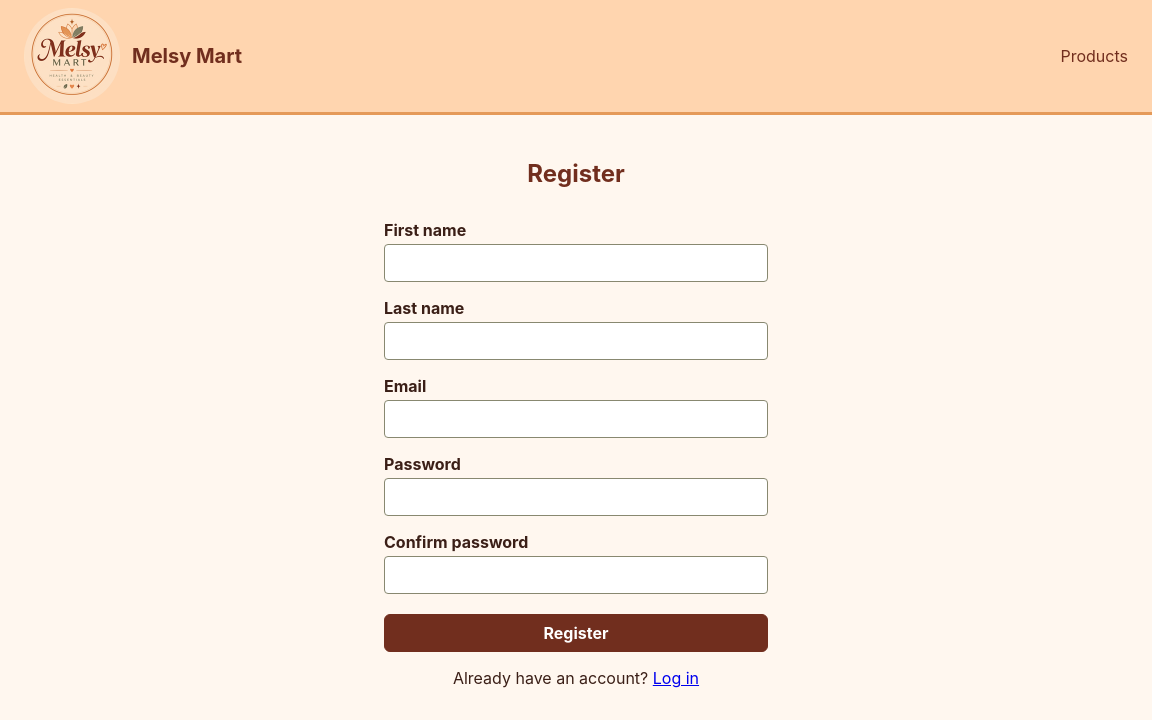
Test case: shows the API's error message and stays on the form
The image size is (1152, 720).
In the field labelled "First name": (576,263) [384,244,768,282], type "Ada"
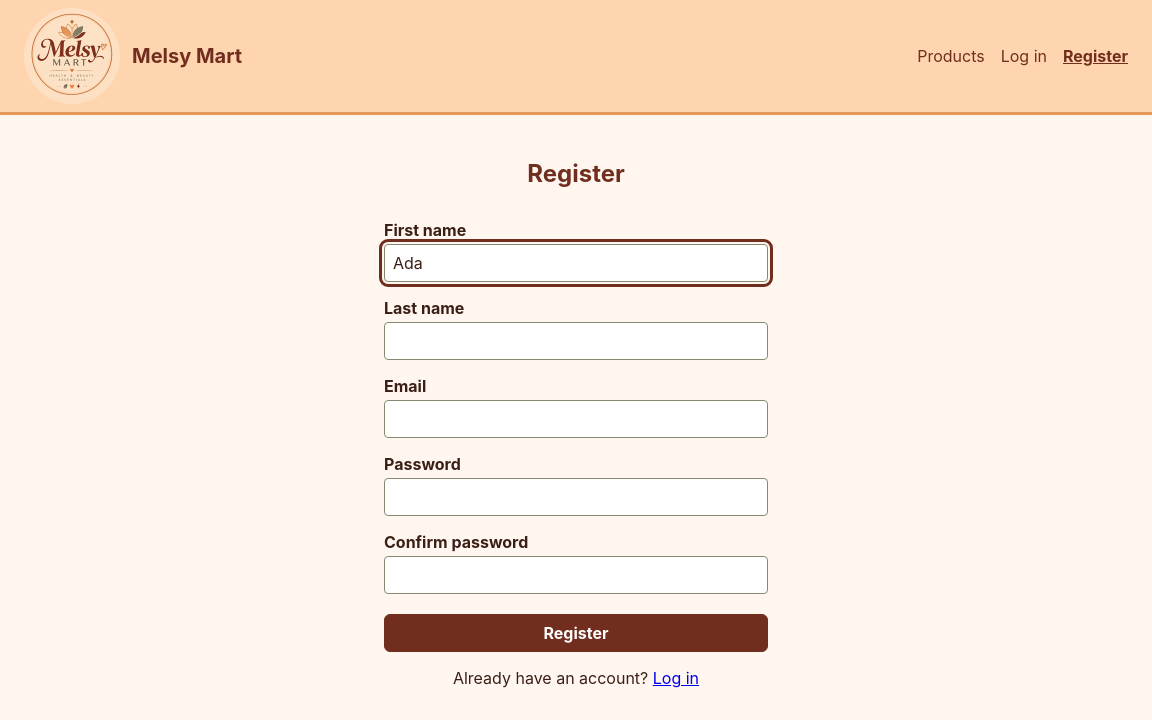
In the field labelled "Last name": (576,341) [384,322,768,360], type "Lovelace"
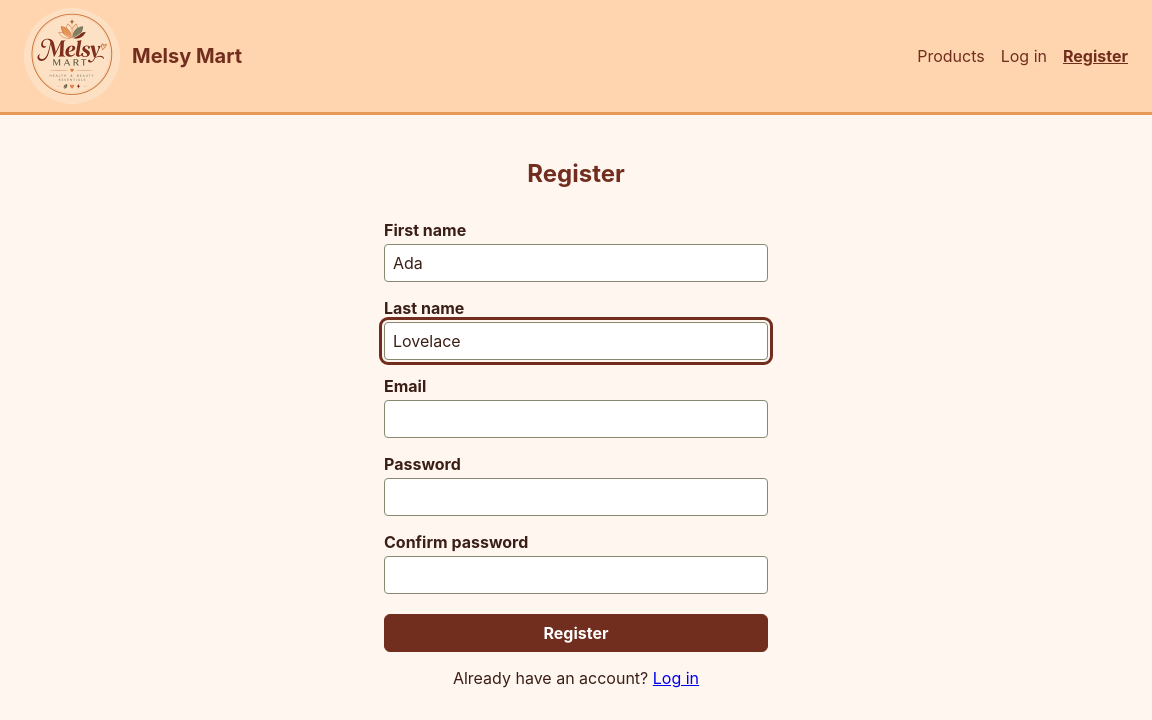
In the field labelled "Email": (576,419) [384,400,768,438], type "ada@example.com"
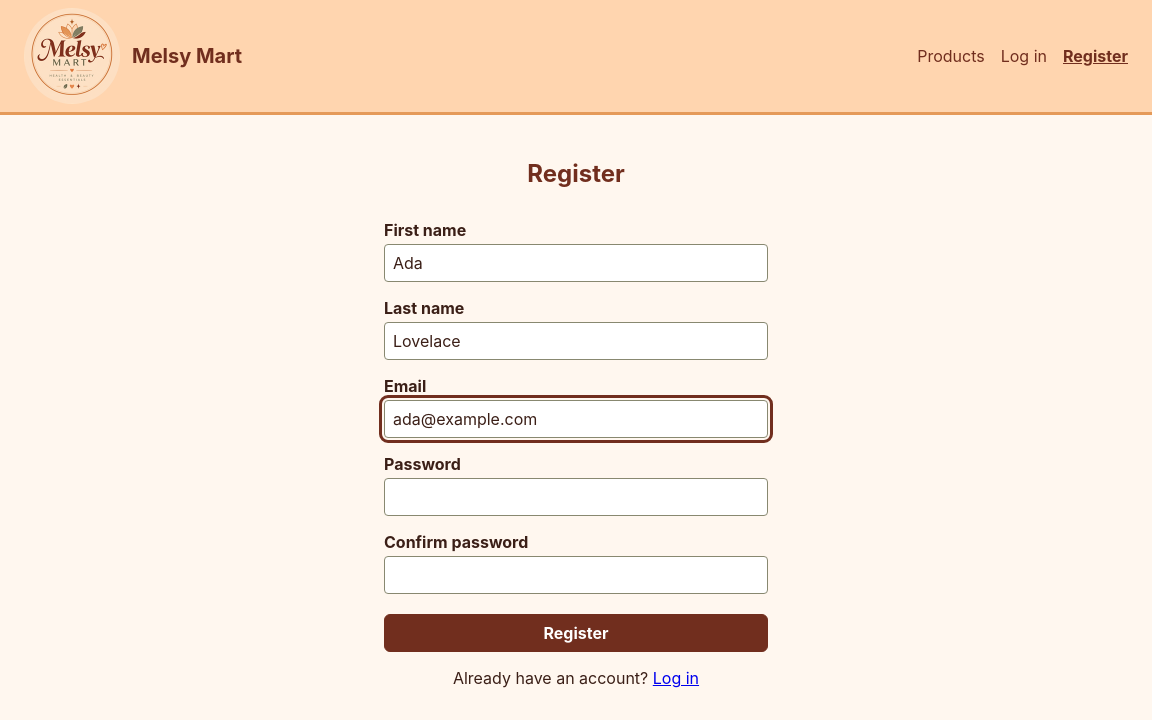
In the password field labelled "Password": (576,497) [384,478,768,516], type "correct-horse-battery"
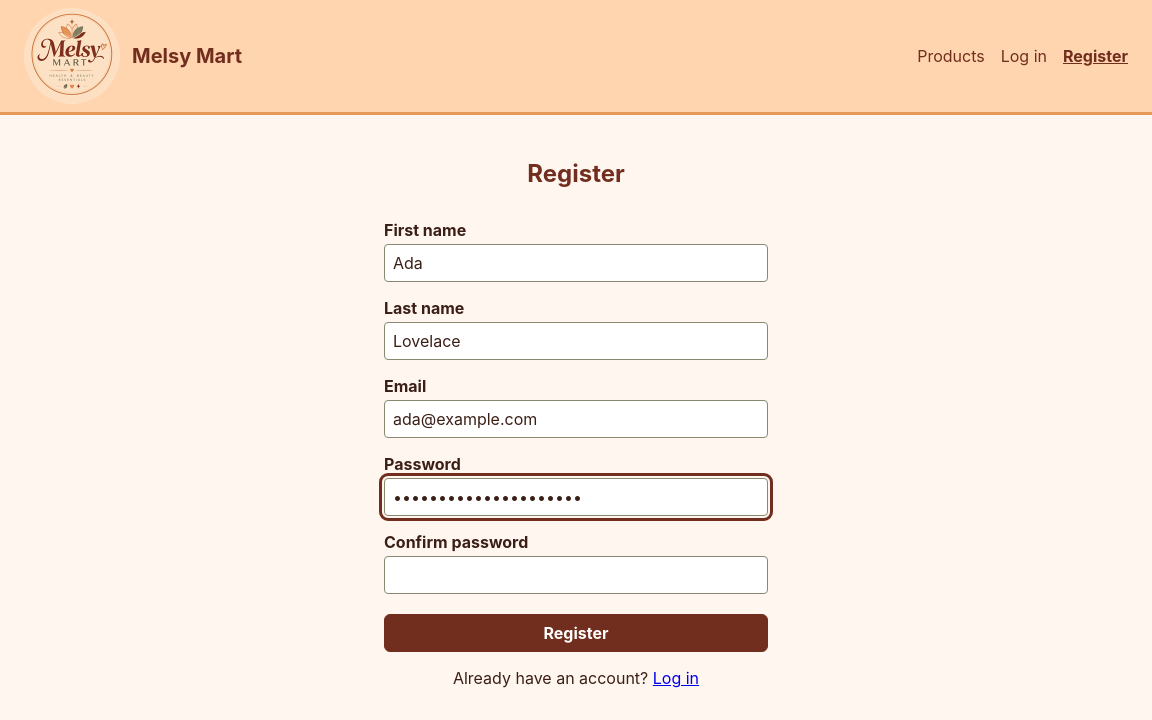
In the password field labelled "Confirm password": (576,575) [384,556,768,594], type "correct-horse-battery"
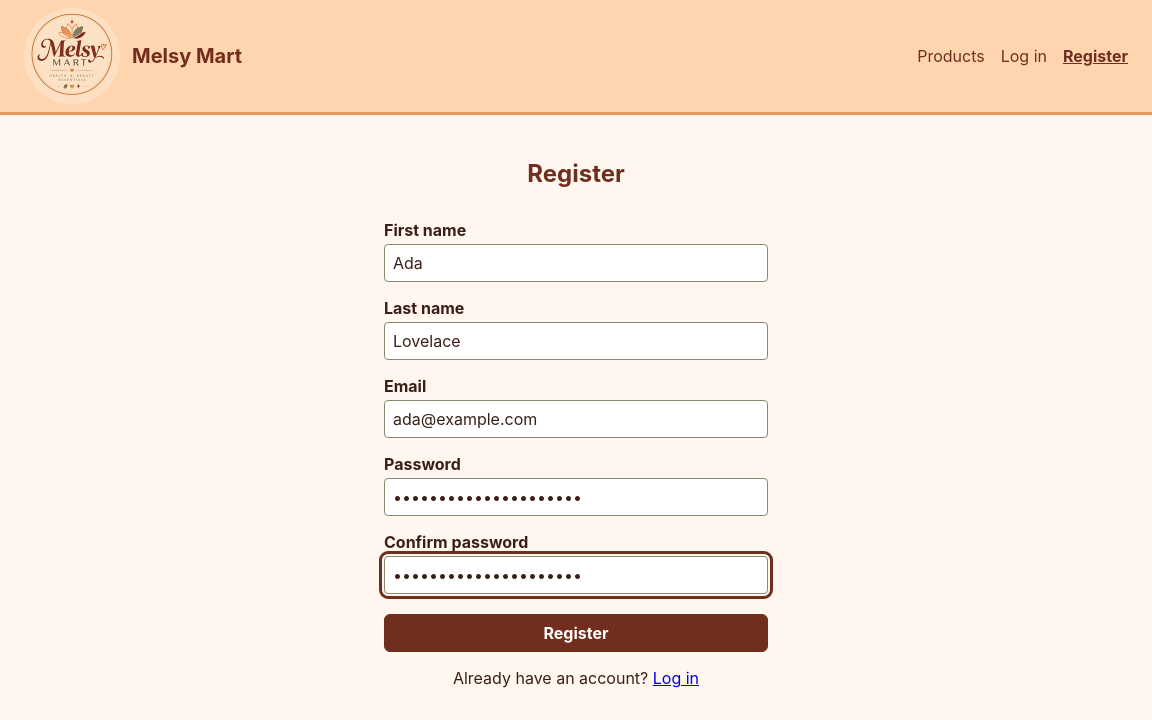
Click the button "Register": (576,633) [384,614,768,652]
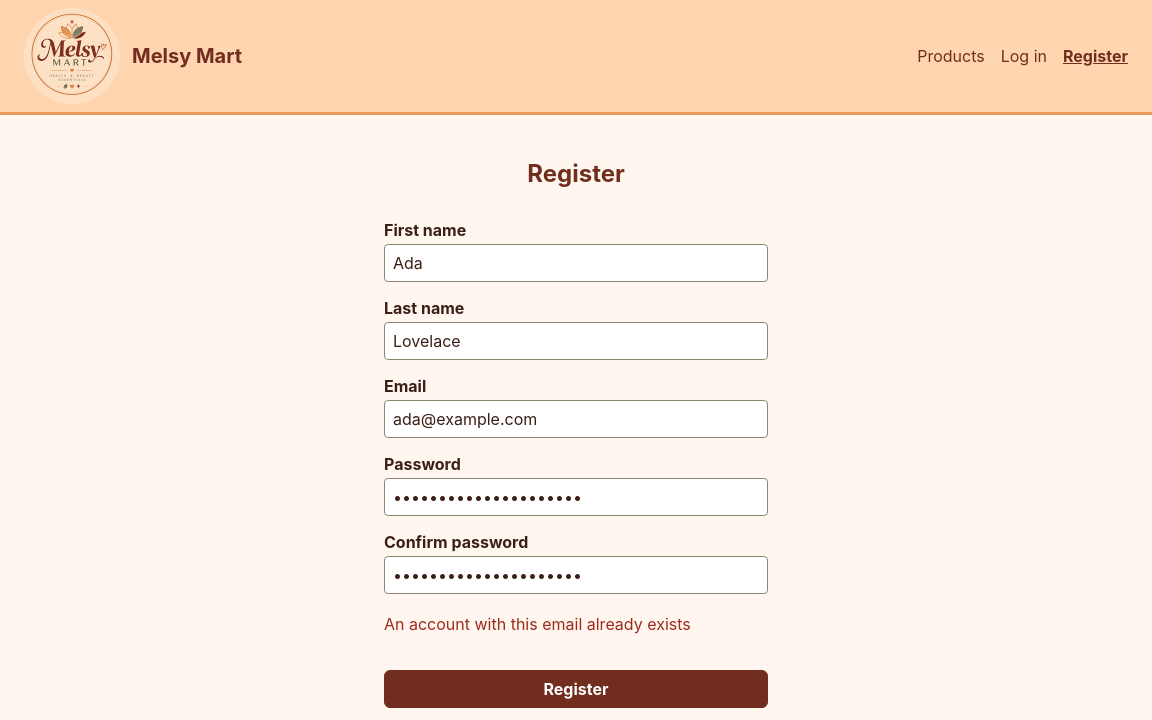
Check: the heading "Register" is shown, box [527,159,625,188]
Check: the message reads "An account with this email already exists", box [384,614,691,634]
